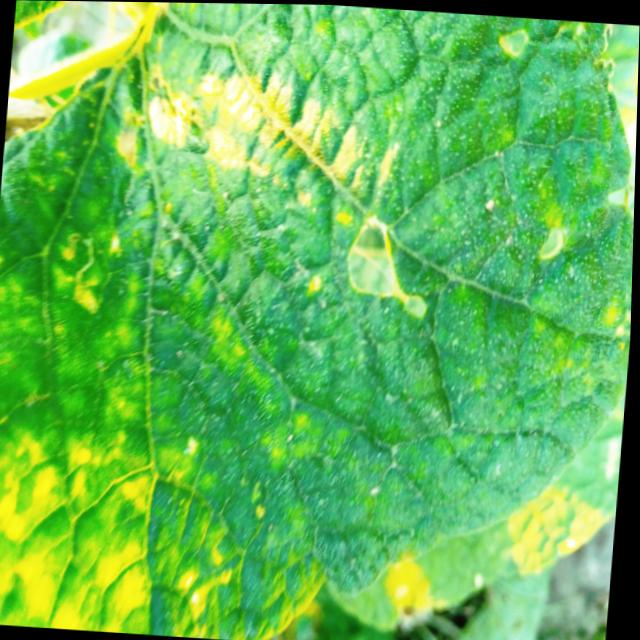Downy-Mildew: (0, 2, 635, 639)
